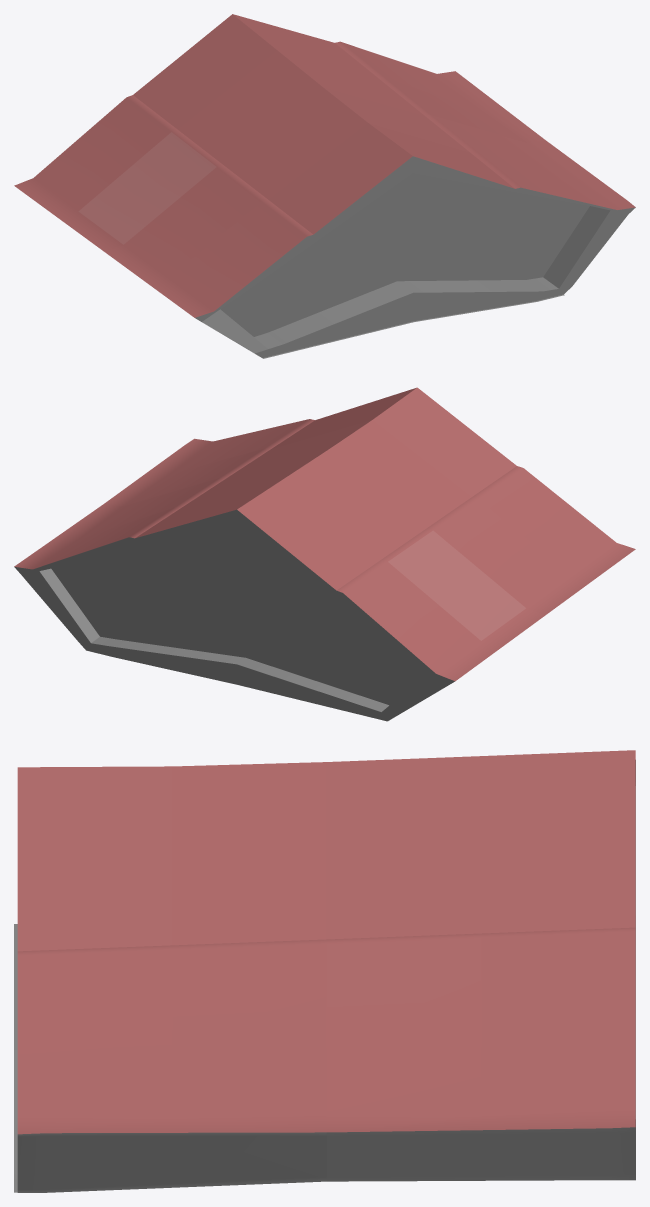
File: Kupola.fbx
The picture shows the model from 3 angles, top to bottom: view 1: azimuth 30°, elevation 25°; view 2: azimuth 150°, elevation 25°; view 3: azimuth 270°, elevation 25°; orthographic projection. The views are drawn at different scales.
Parts seen in each view (by area): view 1: pCube2; view 2: pCube2; view 3: pCube2.
Boxes of the visible parts, <box> form: pCube2: <box>14,14,635,358</box>; pCube2: <box>14,387,635,721</box>; pCube2: <box>14,750,635,1192</box>.
Bounding box in the file's own units: 1311 × 525 × 934.
